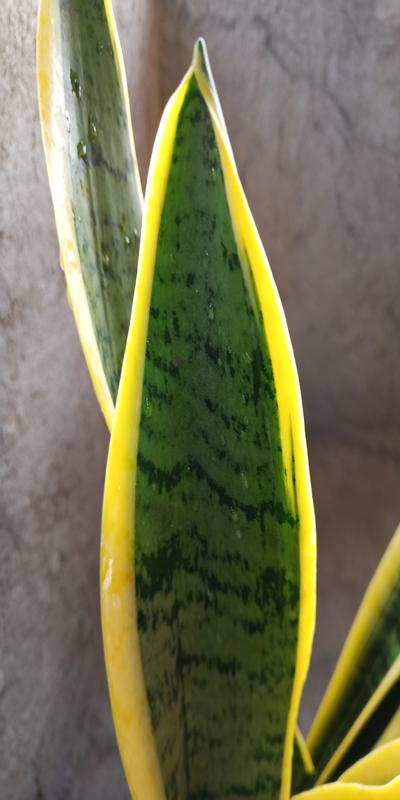Snake plant: (36, 3, 386, 787)
